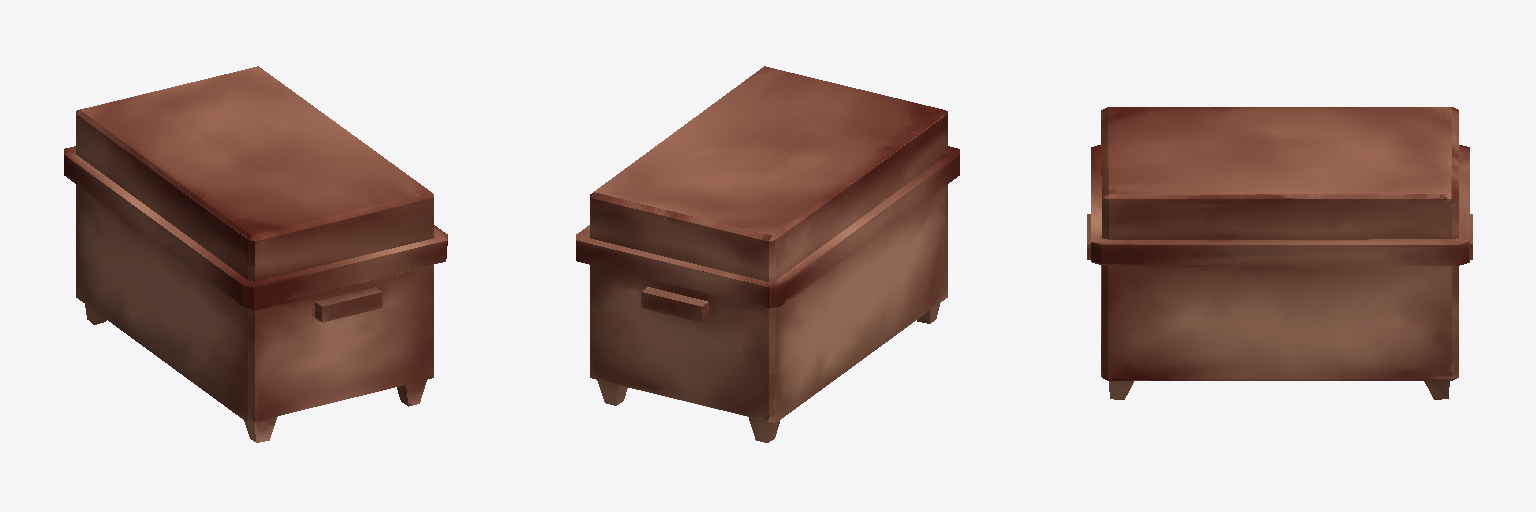
The picture shows the model from 3 angles: view 1: azimuth 30°, elevation 25°; view 2: azimuth 150°, elevation 25°; view 3: azimuth 270°, elevation 25°; orthographic projection.
Visible parts, largest first — view 1: Cube.001_Cube.002_None.003; view 2: Cube.001_Cube.002_None.003; view 3: Cube.001_Cube.002_None.003.
Part boxes in pixels (x1,y1,x2,y2): Cube.001_Cube.002_None.003: (64,66,447,442); Cube.001_Cube.002_None.003: (576,66,959,442); Cube.001_Cube.002_None.003: (1087,107,1472,399).
Size of the model in its own units: 0.6594 by 0.6456 by 1.07.
1 materials, 1 textured.